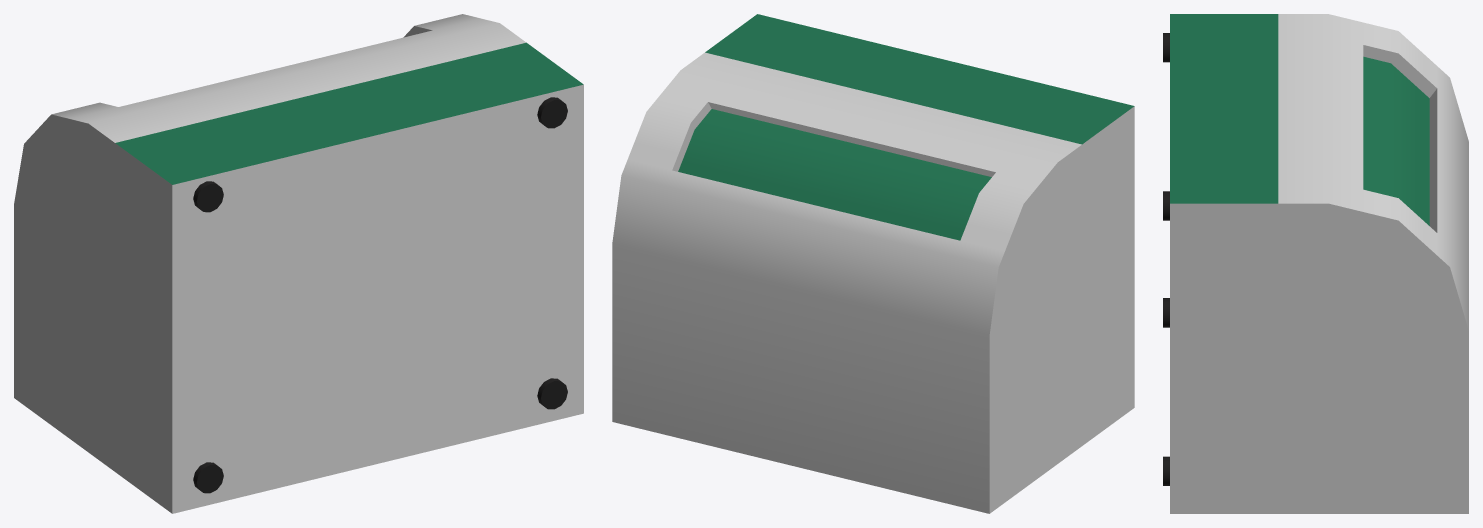
The picture shows the model from 3 angles, left to right: view 1: azimuth 30°, elevation 25°; view 2: azimuth 150°, elevation 25°; view 3: azimuth 270°, elevation 25°; orthographic projection. The views are drawn at different scales.
Parts seen in each view (by area): view 1: Cube; view 2: Cube; view 3: Cube.
Part boxes in pixels (x1,y1,x2,y2): Cube: (14, 14, 583, 513); Cube: (612, 14, 1134, 513); Cube: (1163, 14, 1468, 513).
Size of the model in its own units: 72 by 55 by 49.09.
